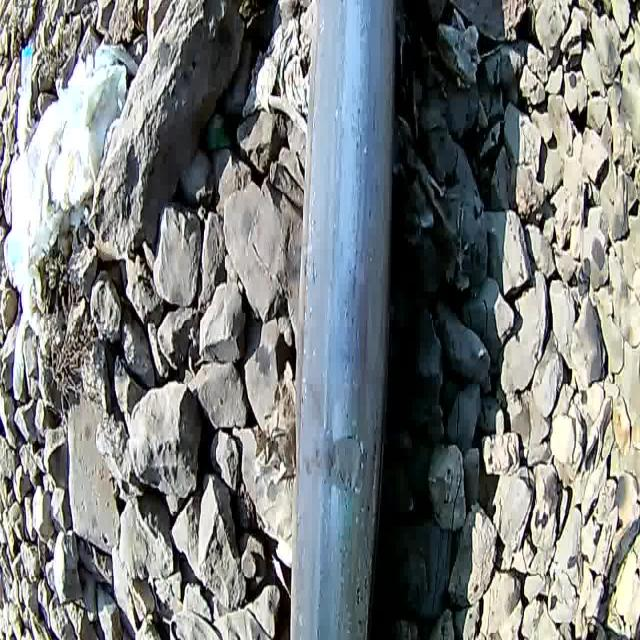Squats: (316, 424, 369, 511)
